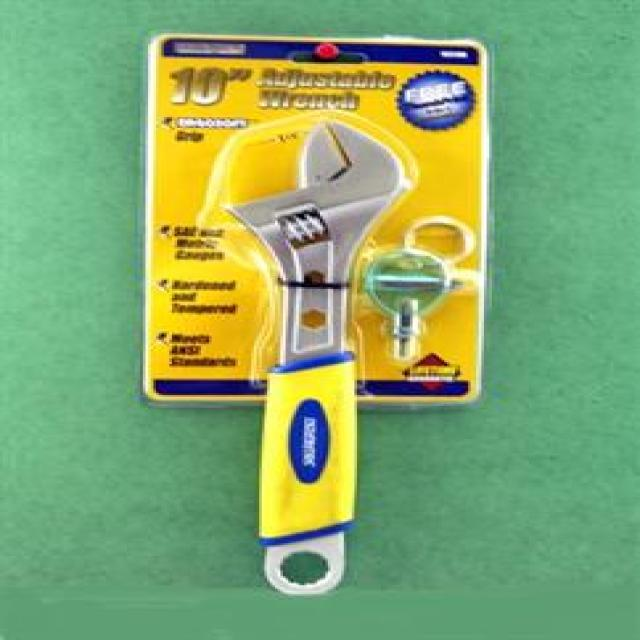wrench: (219, 120, 449, 640)
